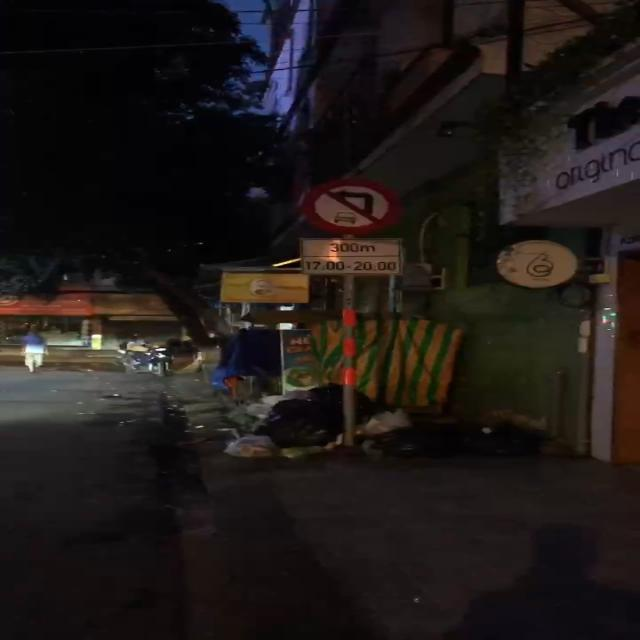Bien bao cam xe o to re trai: (301, 178, 405, 236)
